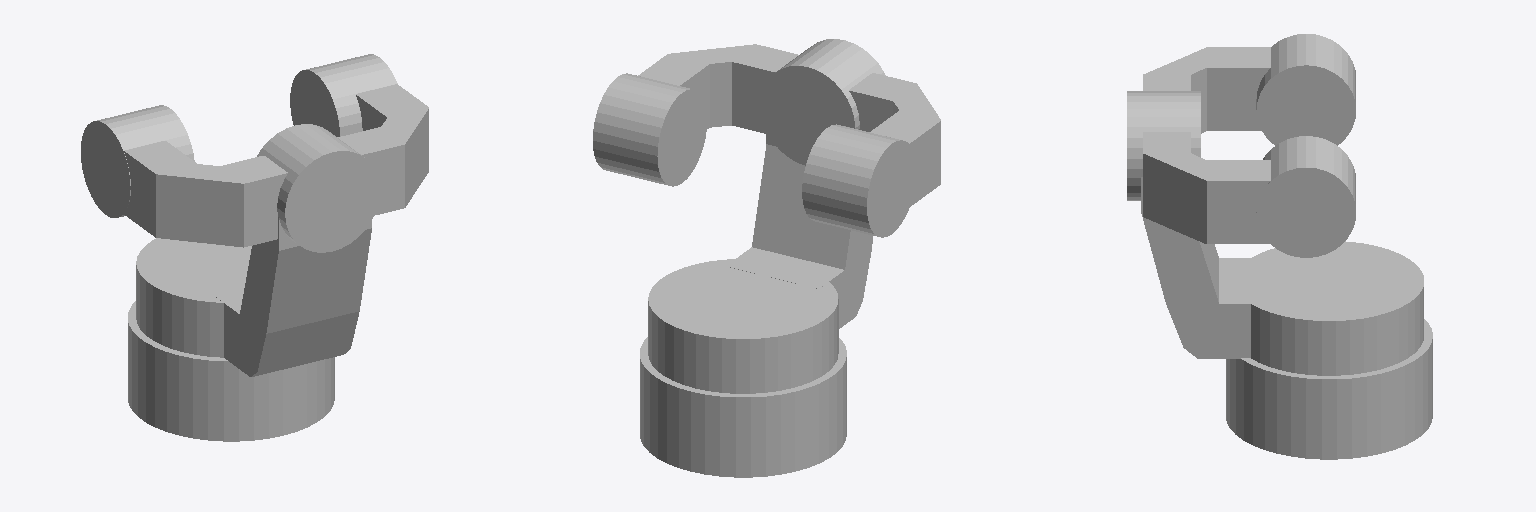
File: PTZaxis1.obj
3 views of the same model, side by side, from view 1: azimuth 30°, elevation 25°; view 2: azimuth 150°, elevation 25°; view 3: azimuth 270°, elevation 25° (orthographic).
Visible parts, largest first — view 1: Cylinder; view 2: Cylinder; view 3: Cylinder.
Boxes of the visible parts, <box> form: Cylinder: <box>81,54,428,441</box>; Cylinder: <box>593,39,940,477</box>; Cylinder: <box>1127,34,1432,459</box>.
Bounding box in the file's own units: 1.65 × 1.84 × 1.59.